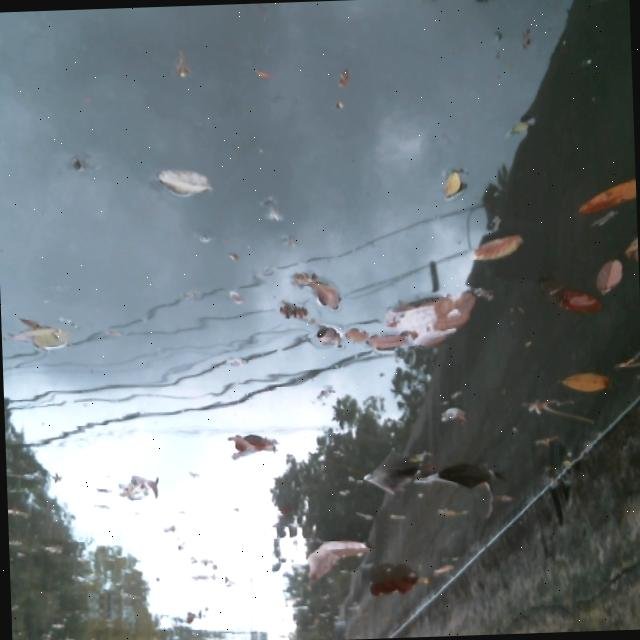Big-leaf: (372, 283, 482, 361), (412, 466, 498, 517), (301, 528, 372, 584), (362, 452, 422, 500), (365, 563, 419, 608)
Small-leaf: (570, 164, 637, 224), (540, 274, 594, 331), (517, 393, 601, 428), (5, 318, 72, 354), (469, 229, 527, 268), (154, 162, 214, 199), (228, 425, 277, 467), (294, 271, 345, 311), (558, 365, 614, 396), (118, 467, 161, 503), (593, 256, 625, 296), (274, 294, 311, 328), (440, 165, 466, 202), (424, 552, 457, 581), (310, 322, 341, 350), (438, 399, 467, 424), (345, 320, 369, 347)
